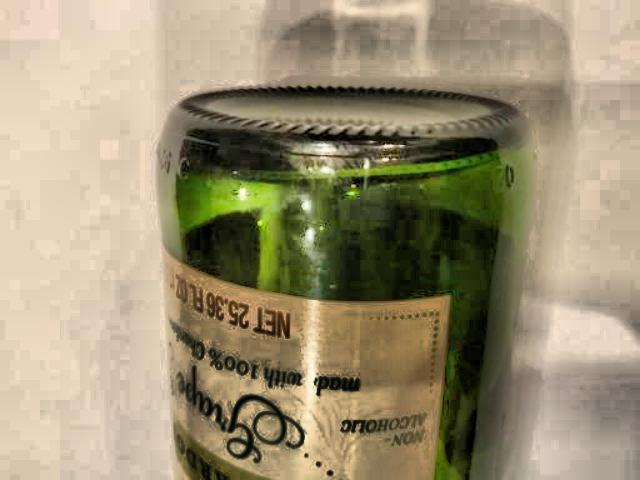Bottles: (149, 73, 545, 480)
